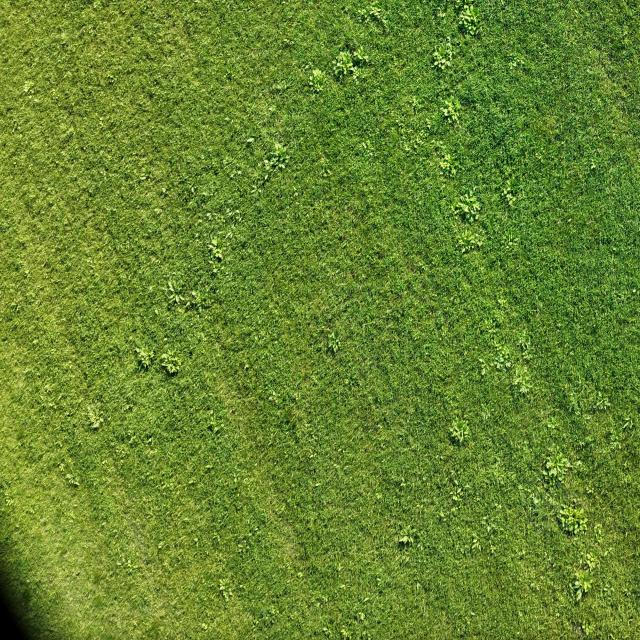rumex: (400, 97, 429, 158), (332, 47, 374, 88), (568, 553, 602, 601), (556, 498, 589, 540), (428, 37, 461, 74), (263, 140, 296, 174), (486, 329, 512, 372), (245, 168, 277, 202), (456, 190, 486, 226), (542, 446, 571, 483), (499, 170, 522, 213), (455, 227, 485, 259), (56, 459, 84, 492), (456, 2, 483, 36), (511, 364, 538, 398), (587, 385, 615, 417), (361, 0, 392, 28), (449, 414, 475, 446), (324, 325, 348, 359), (306, 67, 332, 98), (441, 92, 466, 124), (436, 144, 458, 180), (191, 281, 213, 317), (393, 523, 422, 550), (167, 274, 188, 311), (518, 320, 536, 360), (85, 400, 109, 430), (204, 233, 225, 267), (501, 50, 528, 76), (158, 349, 183, 377), (132, 342, 155, 372), (359, 137, 378, 164), (20, 76, 38, 98)
